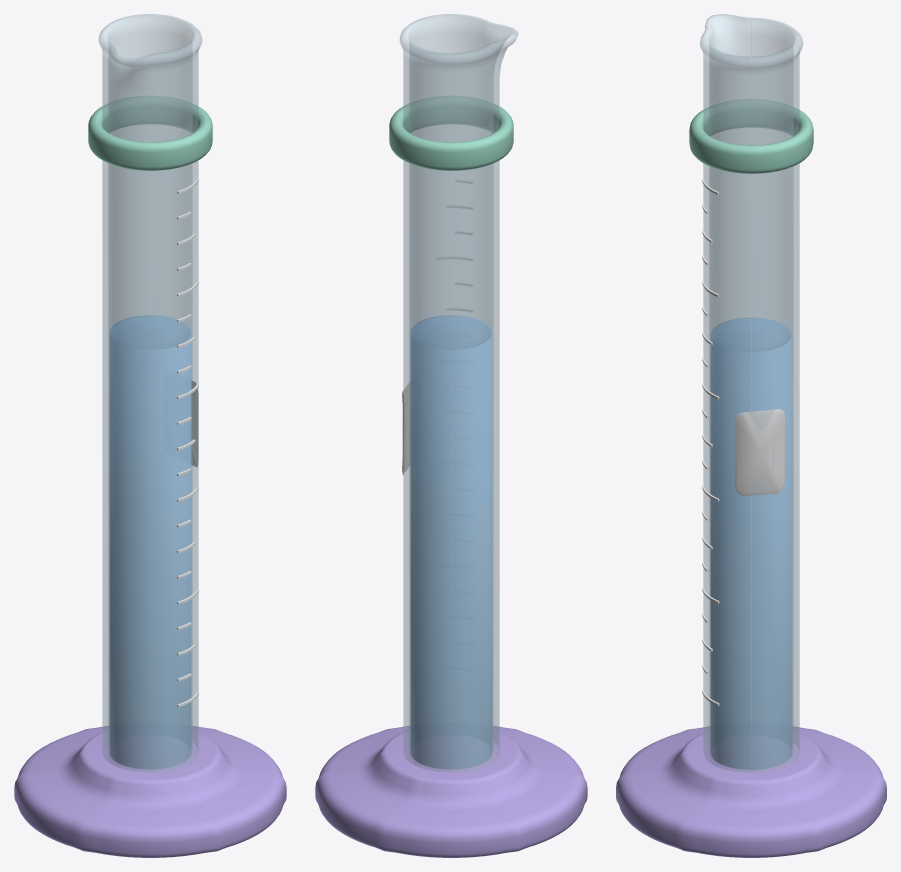
File: graduated-cylinder.glb
The picture shows the model from 3 angles, left to right: view 1: azimuth 30°, elevation 25°; view 2: azimuth 150°, elevation 25°; view 3: azimuth 270°, elevation 25°; orthographic projection.
Parts seen in each view (by area): view 1: graduated-cylinder_cylinder_glass, graduated-cylinder_liquid_fluid, graduated-cylinder_body; view 2: graduated-cylinder_cylinder_glass, graduated-cylinder_liquid_fluid, graduated-cylinder_body; view 3: graduated-cylinder_cylinder_glass, graduated-cylinder_body, graduated-cylinder_liquid_fluid.
Boxes of the visible parts, x1=… form: graduated-cylinder_cylinder_glass: x1=98, y1=14, x2=202, y2=772; graduated-cylinder_liquid_fluid: x1=109, y1=315, x2=191, y2=769; graduated-cylinder_body: x1=14, y1=96, x2=286, y2=857; graduated-cylinder_cylinder_glass: x1=399, y1=14, x2=518, y2=772; graduated-cylinder_liquid_fluid: x1=410, y1=315, x2=492, y2=769; graduated-cylinder_body: x1=315, y1=96, x2=587, y2=857; graduated-cylinder_cylinder_glass: x1=700, y1=14, x2=802, y2=772; graduated-cylinder_body: x1=616, y1=99, x2=886, y2=857; graduated-cylinder_liquid_fluid: x1=710, y1=317, x2=792, y2=769.
Size of the model in its own units: 0.0804 by 0.255 by 0.0817.
3 materials, 1 textured.
